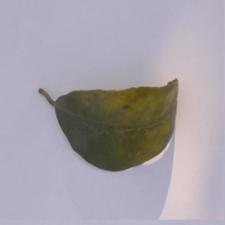Black: (27, 77, 195, 174)
